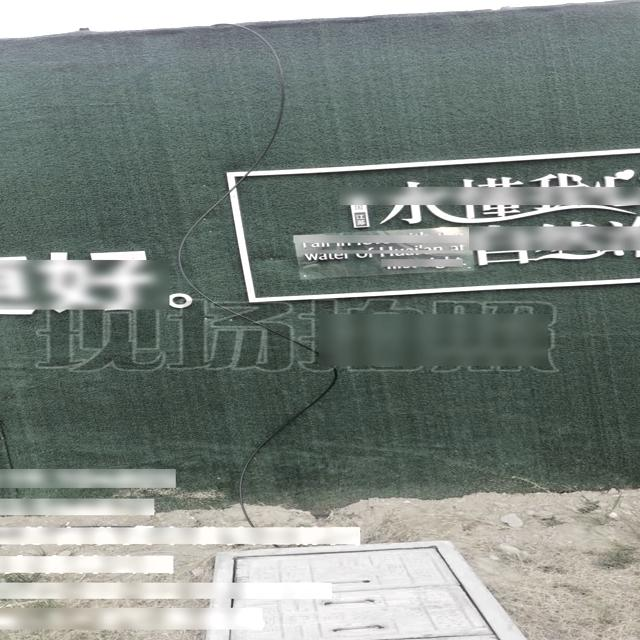good: (196, 538, 550, 640)
